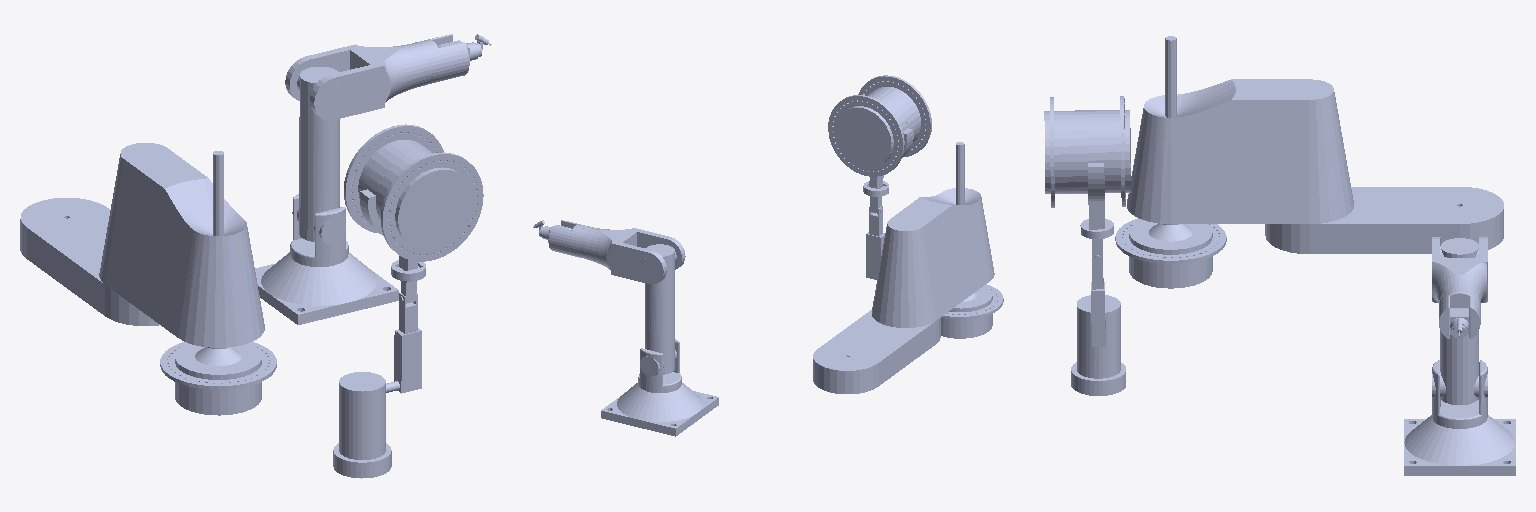
--- What the picture shows (computed from the rendered views, not written in the file) ---
The picture shows the robot from 3 angles, left to right: view 1: azimuth 30°, elevation 25°; view 2: azimuth 150°, elevation 25°; view 3: azimuth 270°, elevation 25°; orthographic projection.
Model combined_robot with 22 links and 21 joints (7 revolute, 6 continuous, 4 prismatic, 4 fixed), rooted at world, posed every joint at zero.
Visible links, largest first — view 1: link2, link_6a, link1, link_3_6achs, tool, base_link_6achs, link_2_6achs, link_1, link_1_6achs, link_2, link_4_6achs, base_link_stand (+3 smaller); view 2: link2, link_6a, link1, base_link_6achs, link_3_6achs, link_2_6achs, tool, link_1_6achs, link_4_6achs, link_2, link3; view 3: link2, link1, link_6a, base_link_6achs, tool, link_2_6achs, link_1, link_3_6achs, link_1_6achs, link_4_6achs, base_link_stand, link3 (+1 smaller).
Link boxes in pixels (left/top/right/bottom): link2: left=99, top=143, right=264, bottom=347; link_6a: left=344, top=124, right=483, bottom=268; link1: left=20, top=198, right=159, bottom=325; link_3_6achs: left=285, top=42, right=431, bottom=120; tool: left=160, top=342, right=276, bottom=415; base_link_6achs: left=255, top=252, right=398, bottom=324; link_2_6achs: left=292, top=67, right=346, bottom=244; link_1: left=339, top=372, right=385, bottom=459; link_1_6achs: left=290, top=194, right=348, bottom=266; link_2: left=386, top=328, right=421, bottom=393; link_4_6achs: left=415, top=34, right=469, bottom=83; base_link_stand: left=333, top=443, right=391, bottom=478; link2: left=872, top=188, right=994, bottom=327; link_6a: left=828, top=75, right=931, bottom=187; link1: left=813, top=310, right=940, bottom=393; base_link_6achs: left=601, top=383, right=718, bottom=436; link_3_6achs: left=577, top=226, right=685, bottom=283; link_2_6achs: left=640, top=244, right=676, bottom=376; tool: left=941, top=284, right=1003, bottom=338; link_1_6achs: left=638, top=339, right=681, bottom=392; link_4_6achs: left=548, top=220, right=585, bottom=257; link_2: left=866, top=232, right=884, bottom=279; link3: left=956, top=142, right=964, bottom=204; link2: left=1127, top=79, right=1353, bottom=223; link1: left=1265, top=187, right=1503, bottom=253; link_6a: left=1044, top=96, right=1130, bottom=229; base_link_6achs: left=1404, top=415, right=1515, bottom=475; tool: left=1115, top=218, right=1226, bottom=288; link_2_6achs: left=1432, top=238, right=1487, bottom=404; link_1: left=1077, top=295, right=1120, bottom=378; link_3_6achs: left=1432, top=237, right=1487, bottom=302; link_1_6achs: left=1432, top=360, right=1487, bottom=428; link_4_6achs: left=1439, top=287, right=1480, bottom=338; base_link_stand: left=1071, top=362, right=1125, bottom=395; link3: left=1165, top=36, right=1176, bottom=117.
Size in the robot's own frame: 0.9401 by 0.8476 by 0.6045 metres.
20 mesh visuals loaded from 21 distinct referenced files (20 binary STL); not drawn: 1 (reference not matched to a file when rendering).

The robot description file, URDF, robot "combined_robot":
<?xml version="1.0" encoding="utf-8" ?>
<!-- This URDF was automatically created by SolidWorks to URDF Exporter! Originally created by Stephen Brawner ([email redacted]) 
     Commit Version: 1.6.0-4-g7f85cfe  Build Version: 1.6.7995.38578
     For more information, please see http://wiki.ros.org/sw_urdf_exporter -->
    


<robot name="combined_robot">
     <!-- This first link called "world" is empty -->
<link name="world"></link>

<!-- A simple fixed joint from our empty world link, to our base. -->
<!-- The base origin is offset from the world origin. -->
<joint name="base_joint" type="fixed">
    <origin xyz="-0.3 0.3 0" rpy="0 0 0"/>
    <parent link="world"/>
    <child link="base_link"/>        
</joint>

    <link name="base_link">
        <inertial>
            <origin xyz="0.0 0.0 0.0" rpy="0 0 0" />
            <mass value="2.6567611957561" />
            <inertia ixx="0.0168357984591433" ixy="4.82200266194366E-19" ixz="1.50069408169164E-18" iyy="0.0133970218668742" iyz="-0.000395379191915253" izz="0.0107623581223205" />
        </inertial>
        <visual>
            <origin xyz="0 0 0" rpy="0 0 0" />
            <geometry>
                <mesh filename="package://rod_gruppe9/meshes/scara/base_link.STL" />
            </geometry>
            <material name="">
                <color rgba="0.792156862745098 0.819607843137255 0.933333333333333 1" />
            </material>
        </visual>
        <collision>
            <origin xyz="0 0 0" rpy="0 0 0" />
            <geometry>
                <mesh filename="package://rod_gruppe9/meshes/scara/base_link.STL" />
            </geometry>
        </collision>
    </link>
    <link name="link1">
        <inertial>
            <origin xyz="0.135 -1.18507934044397E-17 0.03" rpy="0 0 0" />
            <mass value="3.78894680101771" />
            <inertia ixx="0.00859641966180862" ixy="1.32200727642509E-18" ixz="-4.58196296535307E-19" iyy="0.0516867751103564" iyz="1.27294101185764E-19" izz="0.0580098266915544" />
        </inertial>
        <visual>
            <origin xyz="0 0 0" rpy="0 0 0" />
            <geometry>
                <mesh filename="package://rod_gruppe9/meshes/scara/link1.STL" />
            </geometry>
            <material name="">
                <color rgba="0.792156862745098 0.819607843137255 0.933333333333333 1" />
            </material>
        </visual>
        <collision>
            <origin xyz="0 0 0" rpy="0 0 0" />
            <geometry>
                <mesh filename="package://rod_gruppe9/meshes/scara/link1.STL" />
            </geometry>
        </collision>
    </link>
    <joint name="joint1" type="continuous">
        <origin xyz="0 0 0.1975" rpy="0 0 -1.5708" />
        <parent link="base_link" />
        <child link="link1" />
        <axis xyz="0 0 1" />
        <limit lower="-3.1416" upper="3.1416" effort="300" velocity="3" />
    </joint>
    <link name="link2">
        <inertial>
            <origin xyz="0.119679645871635 -1.01210828955412E-16 0.105947989111426" rpy="0 0 0" />
            <mass value="9.47999512865787" />
            <inertia ixx="0.0493343542842483" ixy="2.57062906447754E-17" ixz="0.00487778045183892" iyy="0.134504349003584" iyz="-1.12084557614262E-18" izz="0.110533397930328" />
        </inertial>
        <visual>
            <origin xyz="0 0 0" rpy="0 0 0" />
            <geometry>
                <mesh filename="package://rod_gruppe9/meshes/scara/link2.STL" />
            </geometry>
            <material name="">
                <color rgba="0.792156862745098 0.819607843137255 0.933333333333333 1" />
            </material>
        </visual>
        <collision>
            <origin xyz="0 0 0" rpy="0 0 0" />
            <geometry>
                <mesh filename="package://rod_gruppe9/meshes/scara/link2.STL" />
            </geometry>
        </collision>
    </link>
    <joint name="joint2" type="revolute">
        <origin xyz="0.27 0 0.05" rpy="0 0 0" />
        <parent link="link1" />
        <child link="link2" />
        <axis xyz="0 0 1" />
        <limit lower="-3.1416" upper="3.1416" effort="200" velocity="3" />
    </joint>
    <link name="link3">
        <inertial>
            <origin xyz="0 2.76777304672324E-16 -0.152880740442008" rpy="0 0 0" />
            <mass value="0.0903207887907068" />
            <inertia ixx="0.00107497738302875" ixy="8.91804097908733E-22" ixz="8.08042713685118E-20" iyy="0.00107497738302875" iyz="1.30058416910138E-20" izz="7.66744957016757E-06" />
        </inertial>
        <visual>
            <origin xyz="0 0 0" rpy="0 0 0" />
            <geometry>
                <mesh filename="package://rod_gruppe9/meshes/scara/link3.STL" />
            </geometry>
            <material name="">
                <color rgba="0.792156862745098 0.819607843137255 0.933333333333333 1" />
            </material>
        </visual>
        <collision>
            <origin xyz="0 0 0" rpy="0 0 0" />
            <geometry>
                <mesh filename="package://rod_gruppe9/meshes/scara/link3.STL" />
            </geometry>
        </collision>
    </link>
    <joint
    name="joint3"
    type="prismatic">
    <origin
      xyz="0.25 0 0"
      rpy="3.14159265358979 0 0" />
    <parent
      link="link2" />
    <child
      link="link3" />
    <axis
      xyz="0 0 1" />
    <limit
      lower="0"
      upper="0.25"
      effort="200"
      velocity="1" />
    </joint>
    <link name="tool">
        <inertial>
            <origin xyz="0 4.84716480263527E-15 0.0173861724616842" rpy="0 0 0" />
            <mass value="0.0678521800680965" />
            <inertia ixx="2.32022327419396E-05" ixy="2.11318797113156E-21" ixz="7.37140243810216E-22" iyy="2.32022327419396E-05" iyz="3.18177719294624E-21" izz="3.08931138771722E-05" />
        </inertial>
        <visual>
            <origin xyz="0 0 0" rpy="0 0 0" />
            <geometry>
                <mesh filename="package://rod_gruppe9/meshes/scara/tool.STL" />
            </geometry>
            <material name="">
                <color rgba="0.792156862745098 0.819607843137255 0.933333333333333 1" />
            </material>
        </visual>
        <collision>
            <origin xyz="0 0 0" rpy="0 0 0" />
            <geometry>
                <mesh filename="package://rod_gruppe9/meshes/scara/tool.STL" />
            </geometry>
        </collision>
    </link>
    <joint name="joint4" type="continuous">
        <origin xyz="0 0 0.013206" rpy="0 0 0" />
        <parent link="link3" />
        <child link="tool" />
        <axis xyz="0 0 1" />
        <limit lower="-3.1416" upper="3.1416" effort="200" velocity="3" />
    </joint>

    <transmission name="link1_trans">
        <type>transmission_interface/SimpleTransmission</type>
        <joint name="joint1">
            <hardwareInterface>hardware_interface/PositionJointInterface</hardwareInterface>
        </joint>
        <actuator name="link1_motor">
            <hardwareInterface>hardware_interface/PositionJointInterface</hardwareInterface>
            <mechanicalReduction>1</mechanicalReduction>
        </actuator>
    </transmission>

    <transmission name="link2_trans">
        <type>transmission_interface/SimpleTransmission</type>
        <joint name="joint2">
            <hardwareInterface>hardware_interface/PositionJointInterface</hardwareInterface>
        </joint>
        <actuator name="link2_motor">
            <hardwareInterface>hardware_interface/PositionJointInterface</hardwareInterface>
            <mechanicalReduction>1</mechanicalReduction>
        </actuator>
    </transmission>

    <transmission name="link3_trans">
        <type>transmission_interface/SimpleTransmission</type>
        <joint name="joint3">
            <hardwareInterface>hardware_interface/PositionJointInterface</hardwareInterface>
        </joint>
        <actuator name="link3_motor">
            <hardwareInterface>hardware_interface/PositionJointInterface</hardwareInterface>
            <mechanicalReduction>1</mechanicalReduction>
        </actuator>
    </transmission>    
    <transmission name="link4_trans">
        <type>transmission_interface/SimpleTransmission</type>
        <joint name="joint4">
            <hardwareInterface>hardware_interface/PositionJointInterface</hardwareInterface>
        </joint>
        <actuator name="link4_motor">
            <hardwareInterface>hardware_interface/PositionJointInterface</hardwareInterface>
            <mechanicalReduction>1</mechanicalReduction>
        </actuator>
    </transmission>

    <gazebo>
        <plugin name="control" filename="libgazebo_ros_control.so">
            <robotNamespace>/</robotNamespace>
        </plugin>
    </gazebo>


    <!-- A simple fixed joint from our empty world link, to our base. -->
    <!-- The base origin is offset from the world origin. -->
    <joint name="base_joint_stand" type="fixed">
    <origin xyz="-0.09 -0.35 0" rpy="0 0 -1.5707964"/>
    <parent link="world"/>
    <child link="base_link_stand"/>        
    </joint>
     <link name="base_link_stand">
        <inertial>
            <origin xyz="4.9435E-35 5.4554E-20 0.011279" rpy="0 0 0" />
            <mass value="0.13509" />
            <inertia ixx="0.00011699" ixy="-4.5215E-37" ixz="-4.8534E-37" iyy="0.00011699" iyz="9.9676E-21" izz="0.0002141" />
        </inertial>
        <visual>
            <origin xyz="0 0 0" rpy="0 0 0" />
            <geometry>
                <mesh filename="package://rod_gruppe9/meshes/sf/base_link.STL" />
            </geometry>
            <material name="">
                <color rgba="0.79216 0.81961 0.93333 1" />
            </material>
        </visual>
        <collision>
            <origin xyz="0 0 0" rpy="0 0 0" />
            <geometry>
                <mesh filename="package://rod_gruppe9/meshes/sf/base_link.STL" />
            </geometry>
        </collision>
    </link>
    <link name="link_1">
        <inertial>
            <origin xyz="-7.4891E-10 -4.7885E-05 0.074934" rpy="0 0 0" />
            <mass value="0.75302" />
            <inertia ixx="0.0017114" ixy="1.8868E-11" ixz="2.447E-11" iyy="0.0017127" iyz="1.8546E-06" izz="0.00060182" />
        </inertial>
        <visual>
            <origin xyz="0 0 0" rpy="0 0 0" />
            <geometry>
                <mesh filename="package://rod_gruppe9/meshes/sf/link_1.STL" />
            </geometry>
            <material name="">
                <color rgba="0.79216 0.81961 0.93333 1" />
            </material>
        </visual>
        <collision>
            <origin xyz="0 0 0" rpy="0 0 0" />
            <geometry>
                <mesh filename="package://rod_gruppe9/meshes/sf/link_1.STL" />
            </geometry>
        </collision>
    </link>
    <joint name="joint_1" type="revolute">
        <origin xyz="0 0 0.00999999999999999" rpy="0 0 0" />
        <parent link="base_link_stand" />
        <child link="link_1" />
        <axis xyz="0 0 1" />
        <limit lower="-3.142" upper="3.142" effort="300" velocity="3" />
    </joint>
    <link name="link_2">
        <inertial>
            <origin xyz="-0.00046328 0.036544 0.051063" rpy="0 0 0" />
            <mass value="0.067037" />
            <inertia ixx="7.8176E-05" ixy="7.7561E-07" ixz="-9.2615E-09" iyy="1.7005E-05" iyz="7.3056E-07" izz="6.9541E-05" />
        </inertial>
        <visual>
            <origin xyz="0 0 0" rpy="0 0 0" />
            <geometry>
                <mesh filename="package://rod_gruppe9/meshes/sf/link_2.STL" />
            </geometry>
            <material name="">
                <color rgba="0.79216 0.81961 0.93333 1" />
            </material>
        </visual>
        <collision>
            <origin xyz="0 0 0" rpy="0 0 0" />
            <geometry>
                <mesh filename="package://rod_gruppe9/meshes/sf/link_2.STL" />
            </geometry>
        </collision>
    </link>
    <joint name="joint_2" type="revolute">
        <origin xyz="0 0.0350000000000001 0.126355838406198" rpy="1.5707963267949 0 3.14159265358979" />
        <parent link="link_1" />
        <child link="link_2" />
        <axis xyz="0 0 1" />
        <limit lower="-3.142" upper="3.142" effort="200" velocity="3" />
    </joint>
    <link name="link_3">
        <inertial>
            <origin xyz="0 -6.3708E-16 0.051846" rpy="0 0 0" />
            <mass value="0.051607" />
            <inertia ixx="4.8927E-05" ixy="4.7724E-22" ixz="2.7252E-21" iyy="5.0005E-05" iyz="5.5849E-19" izz="4.5393E-06" />
        </inertial>
        <visual>
            <origin xyz="0 0 0" rpy="0 0 0" />
            <geometry>
                <mesh filename="package://rod_gruppe9/meshes/sf/link_3.STL" />
            </geometry>
            <material name="">
                <color rgba="0.79216 0.81961 0.93333 1" />
            </material>
        </visual>
        <collision>
            <origin xyz="0 0 0" rpy="0 0 0" />
            <geometry>
                <mesh filename="package://rod_gruppe9/meshes/sf/link_3.STL" />
            </geometry>
        </collision>
    </link>
    <joint name="joint_3" type="prismatic">
        <origin xyz="-0.0006355 0.050129 0.055" rpy="-1.5835 1.5708 0" />
        <parent link="link_2" />
        <child link="link_3" />
        <axis xyz="0 0 1" />
        <limit lower="-0.04" upper="0.04" effort="100" velocity="3" />
    </joint>
    <link name="link_4">
        <inertial>
            <origin xyz="-0.00045006 0.029931 1.3878E-17" rpy="0 0 0" />
            <mass value="0.03453" />
            <inertia ixx="1.5049E-05" ixy="9.1656E-08" ixz="3.1495E-23" iyy="7.8206E-06" iyz="4.2911E-23" izz="1.4931E-05" />
        </inertial>
        <visual>
            <origin xyz="0 0 0" rpy="0 0 0" />
            <geometry>
                <mesh filename="package://rod_gruppe9/meshes/sf/link_4.STL" />
            </geometry>
            <material name="">
                <color rgba="0.79216 0.81961 0.93333 1" />
            </material>
        </visual>
        <collision>
            <origin xyz="0 0 0" rpy="0 0 0" />
            <geometry>
                <mesh filename="package://rod_gruppe9/meshes/sf/link_4.STL" />
            </geometry>
        </collision>
    </link>
    <joint name="joint_4" type="revolute">
        <origin xyz="0 7.0607E-05 0.113" rpy="1.5708 0.012677 1.5708" />
        <parent link="link_3" />
        <child link="link_4" />
        <axis xyz="0 0 -1" />
        <limit lower="-2" upper="2" effort="200" velocity="3" />
    </joint>
    <link name="link_5">
        <inertial>
            <origin xyz="0 -2.2118E-17 0.0042083" rpy="0 0 0" />
            <mass value="0.022667" />
            <inertia ixx="6.1085E-06" ixy="-1.0751E-22" ixz="-2.6291E-22" iyy="5.7585E-06" iyz="-2.0494E-20" izz="1.1478E-05" />
        </inertial>
        <visual>
            <origin xyz="0 0 0" rpy="0 0 0" />
            <geometry>
                <mesh filename="package://rod_gruppe9/meshes/sf/link_5.STL" />
            </geometry>
            <material name="">
                <color rgba="0.79216 0.81961 0.93333 1" />
            </material>
        </visual>
        <collision>
            <origin xyz="0 0 0" rpy="0 0 0" />
            <geometry>
                <mesh filename="package://rod_gruppe9/meshes/sf/link_5.STL" />
            </geometry>
        </collision>
    </link>
    <joint name="joint_5" type="continuous">
        <origin xyz="-0.0006972 0.049426 0" rpy="-1.5835 1.5708 0" />arm
        <parent link="link_4" />
        <child link="link_5" />
        <axis xyz="0 0 1" />
        <limit lower="-3.142" upper="3.142" effort="200" velocity="3" />
    </joint>
    <link name="link_6a">
        <inertial>
            <origin xyz="0.013904 0.086561 0.044102" rpy="0 0 0" />
            <mass value="0.08179" />
            <inertia ixx="0.00021265" ixy="1.625E-06" ixz="1.1908E-06" iyy="8.4494E-05" iyz="-9.3935E-05" izz="0.00014047" />
        </inertial>
        <visual>
            <origin xyz="0 0 0" rpy="0 0 0" />
            <geometry>
                <mesh filename="package://rod_gruppe9/meshes/sf/link_6a.STL" />
            </geometry>
            <material name="">
                <color rgba="0.79216 0.81961 0.93333 1" />
            </material>
        </visual>
        <collision>
            <origin xyz="0 0 0" rpy="0 0 0" />
            <geometry>
                <mesh filename="package://rod_gruppe9/meshes/sf/link_6a.STL" />
            </geometry>
        </collision>
    </link>
    <joint name="joint_6a" type="prismatic">
        <origin xyz="0 -0.015 0.00499999999999995" rpy="1.5707963267949 0.0126766145015173 1.5707963267949" />
        <parent link="link_5" />
        <child link="link_6a" />
        <axis xyz="0 0 -1" />
        <limit lower="-0.01" upper="0" effort="100" velocity="3" />
    </joint>
    <link name="link_6b">
        <inertial>
            <origin xyz="0.016094 0.08618 0.044102" rpy="0 0 0" />
            <mass value="0.08179" />
            <inertia ixx="0.00021265" ixy="-1.625E-06" ixz="-1.1908E-06" iyy="8.4494E-05" iyz="-9.3935E-05" izz="0.00014047" />
        </inertial>
        <visual>
            <origin xyz="0 0 0" rpy="0 0 0" />
            <geometry>
                <mesh filename="package://rod_gruppe9/meshes/sf/link_6b.STL" />
            </geometry>
            <material name="">
                <color rgba="0.79216 0.81961 0.93333 1" />
            </material>
        </visual>
        <collision>
            <origin xyz="0 0 0" rpy="0 0 0" />
            <geometry>
                <mesh filename="package://rod_gruppe9/meshes/sf/link_6b.STL" />
            </geometry>
        </collision>
    </link>
    <joint name="joint_6b" type="prismatic">
        <origin xyz="0 0.015 0.005" rpy="1.5707963267949 -0.0126766145015173 -1.5707963267949" />
        <parent link="link_5" />
        <child link="link_6b" />
        <axis xyz="0 0 1" />
        <limit lower="0" upper="0.01" effort="100" velocity="3" />
    </joint>

    <transmission name="joint_1_trans">
        <type>transmission_interface/SimpleTransmission</type>
        <joint name="joint_1">
            <hardwareInterface>hardware_interface/PositionJointInterface</hardwareInterface>
        </joint>
        <actuator name="joint_1_motor">
            <hardwareInterface>hardware_interface/PositionJointInterface</hardwareInterface>
            <mechanicalReduction>1</mechanicalReduction>
        </actuator>
    </transmission>
    <transmission name="joint_2_trans">
        <type>transmission_interface/SimpleTransmission</type>
        <joint name="joint_2">
            <hardwareInterface>hardware_interface/PositionJointInterface</hardwareInterface>
        </joint>
        <actuator name="joint_2_motor">
            <hardwareInterface>hardware_interface/PositionJointInterface</hardwareInterface>
            <mechanicalReduction>1</mechanicalReduction>
        </actuator>
    </transmission>
    <transmission name="joint_3_trans">
        <type>transmission_interface/SimpleTransmission</type>
        <joint name="joint_3">
            <hardwareInterface>hardware_interface/PositionJointInterface</hardwareInterface>
        </joint>
        <actuator name="joint_3_motor">
            <hardwareInterface>hardware_interface/PositionJointInterface</hardwareInterface>
            <mechanicalReduction>1</mechanicalReduction>
        </actuator>
    </transmission>
    <transmission name="joint_4_trans">
        <type>transmission_interface/SimpleTransmission</type>
        <joint name="joint_4">
            <hardwareInterface>hardware_interface/PositionJointInterface</hardwareInterface>
        </joint>
        <actuator name="joint_4_motor">
            <hardwareInterface>hardware_interface/PositionJointInterface</hardwareInterface>
            <mechanicalReduction>1</mechanicalReduction>
        </actuator>
    </transmission>
    <transmission name="joint_5_trans">
        <type>transmission_interface/SimpleTransmission</type>
        <joint name="joint_5">
            <hardwareInterface>hardware_interface/PositionJointInterface</hardwareInterface>
        </joint>
        <actuator name="joint_5_motor">
            <hardwareInterface>hardware_interface/PositionJointInterface</hardwareInterface>
            <mechanicalReduction>1</mechanicalReduction>
        </actuator>
    </transmission>
    <transmission name="joint_6a_trans">
        <type>transmission_interface/SimpleTransmission</type>
        <joint name="joint_6a">
            <hardwareInterface>hardware_interface/PositionJointInterface</hardwareInterface>
        </joint>
        <actuator name="joint_6a_motor">
            <hardwareInterface>hardware_interface/PositionJointInterface</hardwareInterface>
            <mechanicalReduction>1</mechanicalReduction>
        </actuator>
    </transmission>
    <transmission name="joint_6b_trans">
        <type>transmission_interface/SimpleTransmission</type>
        <joint name="joint_6b">
            <hardwareInterface>hardware_interface/PositionJointInterface</hardwareInterface>
        </joint>
        <actuator name="joint_6b_motor">
            <hardwareInterface>hardware_interface/PositionJointInterface</hardwareInterface>
            <mechanicalReduction>1</mechanicalReduction>
        </actuator>
    </transmission>



<!-- A simple fixed joint from our empty world link, to our base. -->
<!-- The base origin is offset from the world origin. -->
<joint name="base_joint_6achs" type="fixed">
    <origin xyz="0.2 0.3 0" rpy="0 0 0"/>
    <parent link="world"/>
    <child link="base_link_6achs"/>
</joint>
    <link name="base_link_6achs">
        <inertial>
            <origin xyz="-7.65913819225736E-18 -1.65225008627066E-17 0.0231174307669445" rpy="0 0 0" />
            <mass value="1.48126745690034" />
            <inertia ixx="0.00443828527591986" ixy="-1.12496563307212E-19" ixz="-8.00391412143529E-20" iyy="0.00443828527591986" iyz="-1.31127790466798E-19" izz="0.00801675599160512" />
        </inertial>
        <visual>
            <origin xyz="0 0 0" rpy="0 0 0" />
            <geometry>
                <mesh filename="package://rod_gruppe9/meshes/industrie/base_link.STL" />
            </geometry>
            <material name="">
                <color rgba="0.792156862745098 0.819607843137255 0.933333333333333 1" />
            </material>
        </visual>
        <collision>
            <origin xyz="0 0 0" rpy="0 0 0" />
            <geometry>
                <mesh filename="package://rod_gruppe9/meshes/industrie/base_link.STL" />
            </geometry>
        </collision>
    </link>
    <link name="link_1_6achs">
        <inertial>
            <origin xyz="1.99528726028179E-07 0.0486270641944972 2.10351221188802E-07" rpy="0 0 0" />
            <mass value="0.438280954269068" />
            <inertia ixx="0.000715853112437167" ixy="9.52592448290363E-10" ixz="-3.79963987259125E-10" iyy="0.000472021483764293" iyz="-3.08273105834107E-09" izz="0.000632953259889368" />
        </inertial>
        <visual>
            <origin xyz="0 0 0" rpy="0 0 0" />
            <geometry>
                <mesh filename="package://rod_gruppe9/meshes/industrie/link_1.STL" />
            </geometry>
            <material name="">
                <color rgba="0.792156862745098 0.819607843137255 0.933333333333333 1" />
            </material>
        </visual>
        <collision>
            <origin xyz="0 0 0" rpy="0 0 0" />
            <geometry>
                <mesh filename="package://rod_gruppe9/meshes/industrie/link_1.STL" />
            </geometry>
        </collision>
    </link>
    <joint name="joint_1_6achs" type="continuous">
        <origin xyz="0 0 0.02" rpy="1.5708 0 -0.004171" />
        <parent link="base_link_6achs" />
        <child link="link_1_6achs" />
        <axis xyz="0 1 0" />
        <limit lower="-3.142" upper="3.142" effort="300" velocity="3" />
    </joint>
    <link name="link_2_6achs">
        <inertial>
            <origin xyz="-4.2478E-08 0.125 -3.4596E-08" rpy="0 0 0" />
            <mass value="1.2912" />
            <inertia ixx="0.011403" ixy="9.72E-10" ixz="-2.0875E-08" iyy="0.00096657" iyz="-3.0854E-10" izz="0.011193" />
        </inertial>
        <visual>
            <origin xyz="0 0 0" rpy="0 0 0" />
            <geometry>
                <mesh filename="package://rod_gruppe9/meshes/industrie/link_2.STL" />
            </geometry>
            <material name="">
                <color rgba="0.79216 0.81961 0.93333 1" />
            </material>
        </visual>
        <collision>
            <origin xyz="0 0 0" rpy="0 0 0" />
            <geometry>
                <mesh filename="package://rod_gruppe9/meshes/industrie/link_2.STL" />
            </geometry>
        </collision>
    </link>
    <joint name="joint_2_6achs" type="revolute">
        <origin xyz="0 0.115 0" rpy="0 0 -0.0040796" />
        <parent link="link_1_6achs" />
        <child link="link_2_6achs" />
        <axis xyz="0 0 -1" />
        <limit lower="-1.57" upper="1.57" effort="200" velocity="3" />
    </joint>
    <link name="link_3_6achs">
        <inertial>
            <origin xyz="0.109348441575462 -1.99745626816572E-07 5.31674409937197E-06" rpy="0 0 0" />
            <mass value="0.920734584243157" />
            <inertia ixx="0.00123481503488863" ixy="1.88791641606062E-09" ixz="-9.69904621001955E-08" iyy="0.00353416759146799" iyz="-7.51685200619273E-08" izz="0.00318564736605118" />
        </inertial>
        <visual>
            <origin xyz="0 0 0" rpy="0 0 0" />
            <geometry>
                <mesh filename="package://rod_gruppe9/meshes/industrie/link_3.STL" />
            </geometry>
            <material name="">
                <color rgba="0.792156862745098 0.819607843137255 0.933333333333333 1" />
            </material>
        </visual>
        <collision>
            <origin xyz="0 0 0" rpy="0 0 0" />
            <geometry>
                <mesh filename="package://rod_gruppe9/meshes/industrie/link_3.STL" />
            </geometry>
        </collision>
    </link>
    <joint name="joint_3_6achs" type="revolute">
        <origin xyz="0 0.25 0" rpy="0 0 0.0040796" />
        <parent link="link_2_6achs" />
        <child link="link_3_6achs" />
        <axis xyz="0 0 1" />
        <limit lower="-1" upper="3.842" effort="200" velocity="3" />
    </joint>
    <link name="link_4_6achs">
        <inertial>
            <origin xyz="-1.4159E-05 -5.3011E-08 0.0294" rpy="0 0 0" />
            <mass value="0.20568" />
            <inertia ixx="0.00015971" ixy="-1.5609E-09" ixz="6.3762E-08" iyy="0.00020268" iyz="2.0077E-10" izz="0.00016446" />
        </inertial>
        <visual>
            <origin xyz="0 0 0" rpy="0 0 0" />
            <geometry>
                <mesh filename="package://rod_gruppe9/meshes/industrie/link_4.STL" />
            </geometry>
            <material name="">
                <color rgba="0.79216 0.81961 0.93333 1" />
            </material>
        </visual>
        <collision>
            <origin xyz="0 0 0" rpy="0 0 0" />
            <geometry>
                <mesh filename="package://rod_gruppe9/meshes/industrie/link_4.STL" />
            </geometry>
        </collision>
    </link>
    <joint name="joint_4_6achs" type="continuous">
        <origin xyz="0.2 0 -0.0008228" rpy="0 1.5708 0" />
        <parent link="link_3_6achs" />
        <child link="link_4_6achs" />
        <axis xyz="0 0 1" />
        <limit lower="-3.142" upper="3.142" effort="200" velocity="3" />
    </joint>
    <link name="link_5_6achs">
        <inertial>
            <origin xyz="0.0142499205576026 -5.84687838128817E-05 0.000181348520742203" rpy="0 0 0" />
            <mass value="0.0654655001023935" />
            <inertia ixx="1.27177294982131E-05" ixy="5.0014856558915E-08" ixz="-4.16535488254867E-08" iyy="2.49588859772313E-05" iyz="1.78273937310105E-10" izz="2.45679149734406E-05" />
        </inertial>
        <visual>
            <origin xyz="0 0 0" rpy="0 0 0" />
            <geometry>
                <mesh filename="package://rod_gruppe9/meshes/industrie/link_5.STL" />
            </geometry>
            <material name="">
                <color rgba="0.792156862745098 0.819607843137255 0.933333333333333 1" />
            </material>
        </visual>
        <collision>
            <origin xyz="0 0 0" rpy="0 0 0" />
            <geometry>
                <mesh filename="package://rod_gruppe9/meshes/industrie/link_5.STL" />
            </geometry>
        </collision>
    </link>
    <joint name="joint_5_6achs" type="revolute">
        <origin xyz="0.00022572 0 0.051381" rpy="0 -1.5708 0" />
        <parent link="link_4_6achs" />
        <child link="link_5_6achs" />
        <axis xyz="0 0 1" />
        <limit lower="-1.57" upper="1.57" effort="200" velocity="3" />
    </joint>
    <link name="link_6_6achs">
        <inertial>
            <origin xyz="5.5511E-17 2.2204E-16 0.0125" rpy="0 0 0" />
            <mass value="0.00968" />
            <inertia ixx="9.4706E-07" ixy="-1.8529E-22" ixz="-5.2733E-23" iyy="9.4706E-07" iyz="3.3521E-22" izz="8.8577E-07" />
        </inertial>
        <visual>
            <origin xyz="0 0 0" rpy="0 0 0" />
            <geometry>
                <mesh filename="package://rod_gruppe9/meshes/industrie/link_6.STL" />
            </geometry>
            <material name="">
                <color rgba="0.79216 0.81961 0.93333 1" />
            </material>
        </visual>
        <collision>
            <origin xyz="0 0 0" rpy="0 0 0" />
            <geometry>
                <mesh filename="package://rod_gruppe9/meshes/industrie/link_6.STL" />
            </geometry>
        </collision>
    </link>
    <joint name="joint_6_6achs" type="continuous">
        <origin xyz="0.034928 -0.00014279 0.00022572" rpy="-1.5708 0.7854 -1.5749" />
        <parent link="link_5_6achs" />
        <child link="link_6_6achs" />
        <axis xyz="0 0 1" />
        <limit lower="-3.142" upper="3.142" effort="200" velocity="3" />
    </joint>
    <link name="link_7_6achs">
        <inertial>
            <origin xyz="-1.0716E-08 -0.0093376 0.0028893" rpy="0 0 0" />
            <mass value="0.0042407" />
            <inertia ixx="5.3114E-07" ixy="-9.2275E-14" ixz="8.2658E-14" iyy="2.2258E-07" iyz="6.9489E-08" izz="4.6353E-07" />
        </inertial>
        <visual>
            <origin xyz="0 0 0" rpy="0 0 0" />
            <geometry>
                <mesh filename="package://rod_gruppe9/meshes/industrie/link_7.STL" />
            </geometry>
            <material name="">
                <color rgba="0.79216 0.81961 0.93333 1" />
            </material>
        </visual>
        <collision>
            <origin xyz="0 0 0" rpy="0 0 0" />
            <geometry>
                <mesh filename="package://rod_gruppe9/meshes/industrie/link_7.STL" />
            </geometry>
        </collision>
    </link>
    <joint name="joint_7_6achs" type="fixed">
        <origin xyz="0 0 0.0280000000000002" rpy="0 0 -2.35619449019227" />
        <parent link="link_6_6achs" />
        <child link="link_7_6achs" />
        <axis xyz="0 0 0" />
    </joint>
    <transmission name="trans_joint_1_6achs">
        <type>transmission_interface/SimpleTransmission</type>
        <joint name="joint_1_6achs">
            <hardwareInterface>hardware_interface/PositionJointInterface</hardwareInterface>
        </joint>
        <actuator name="joint_1_motor_6achs">
            <hardwareInterface>hardware_interface/PositionJointInterface</hardwareInterface>
            <mechanicalReduction>1</mechanicalReduction>
        </actuator>
    </transmission>
    <transmission name="trans_joint_2_6achs">
        <type>transmission_interface/SimpleTransmission</type>
        <joint name="joint_2_6achs">
            <hardwareInterface>hardware_interface/PositionJointInterface</hardwareInterface>
        </joint>
        <actuator name="joint_2_motor_6achs">
            <hardwareInterface>hardware_interface/PositionJointInterface</hardwareInterface>
            <mechanicalReduction>1</mechanicalReduction>
        </actuator>
    </transmission>
    <transmission name="trans_joint_3_6achs">
        <type>transmission_interface/SimpleTransmission</type>
        <joint name="joint_3_6achs">
            <hardwareInterface>hardware_interface/PositionJointInterface</hardwareInterface>
        </joint>
        <actuator name="joint_3_motor_6achs">
            <hardwareInterface>hardware_interface/PositionJointInterface</hardwareInterface>
            <mechanicalReduction>1</mechanicalReduction>
        </actuator>
    </transmission>
    <transmission name="trans_joint_4_6achs">
        <type>transmission_interface/SimpleTransmission</type>
        <joint name="joint_4_6achs">
            <hardwareInterface>hardware_interface/PositionJointInterface</hardwareInterface>
        </joint>
        <actuator name="joint_4_motor_6achs">
            <hardwareInterface>hardware_interface/PositionJointInterface</hardwareInterface>
            <mechanicalReduction>1</mechanicalReduction>
        </actuator>
    </transmission>
    <transmission name="trans_joint_5_6achs">
        <type>transmission_interface/SimpleTransmission</type>
        <joint name="joint_5_6achs">
            <hardwareInterface>hardware_interface/PositionJointInterface</hardwareInterface>
        </joint>
        <actuator name="joint_5_motor_6achs">
            <hardwareInterface>hardware_interface/PositionJointInterface</hardwareInterface>
            <mechanicalReduction>1</mechanicalReduction>
        </actuator>
    </transmission>
    <transmission name="trans_joint_6_6achs">
        <type>transmission_interface/SimpleTransmission</type>
        <joint name="joint_6_6achs">
            <hardwareInterface>hardware_interface/PositionJointInterface</hardwareInterface>
        </joint>
        <actuator name="joint_6_motor_6achs">
            <hardwareInterface>hardware_interface/PositionJointInterface</hardwareInterface>
            <mechanicalReduction>1</mechanicalReduction>
        </actuator>
    </transmission>

</robot>
